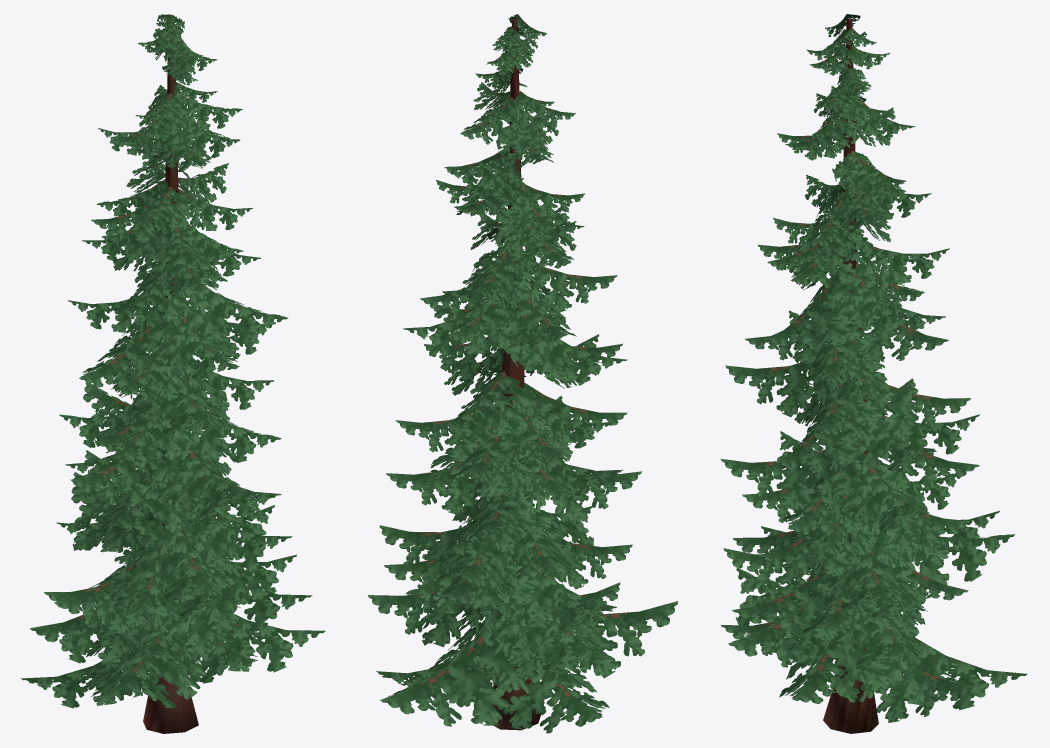
File: Pine1.fbx
The picture shows the model from 3 angles, left to right: view 1: azimuth 30°, elevation 25°; view 2: azimuth 150°, elevation 25°; view 3: azimuth 270°, elevation 25°; orthographic projection.
Parts seen in each view (by area): view 1: Pine tree 1; view 2: Pine tree 1; view 3: Pine tree 1.
Boxes of the visible parts, x1,y1,x2,y2 form: Pine tree 1: [21, 14, 325, 733]; Pine tree 1: [368, 14, 678, 733]; Pine tree 1: [720, 14, 1027, 733].
Bounding box in the file's own units: 690 × 1814 × 745.
2 materials, 2 textured.
